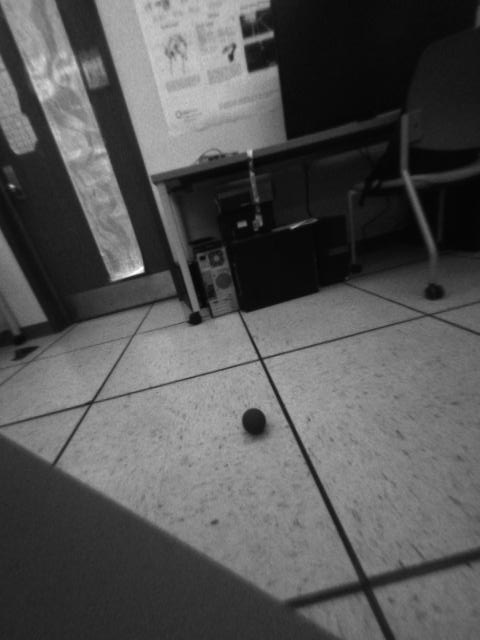dogtoy: (235, 404, 275, 437)
